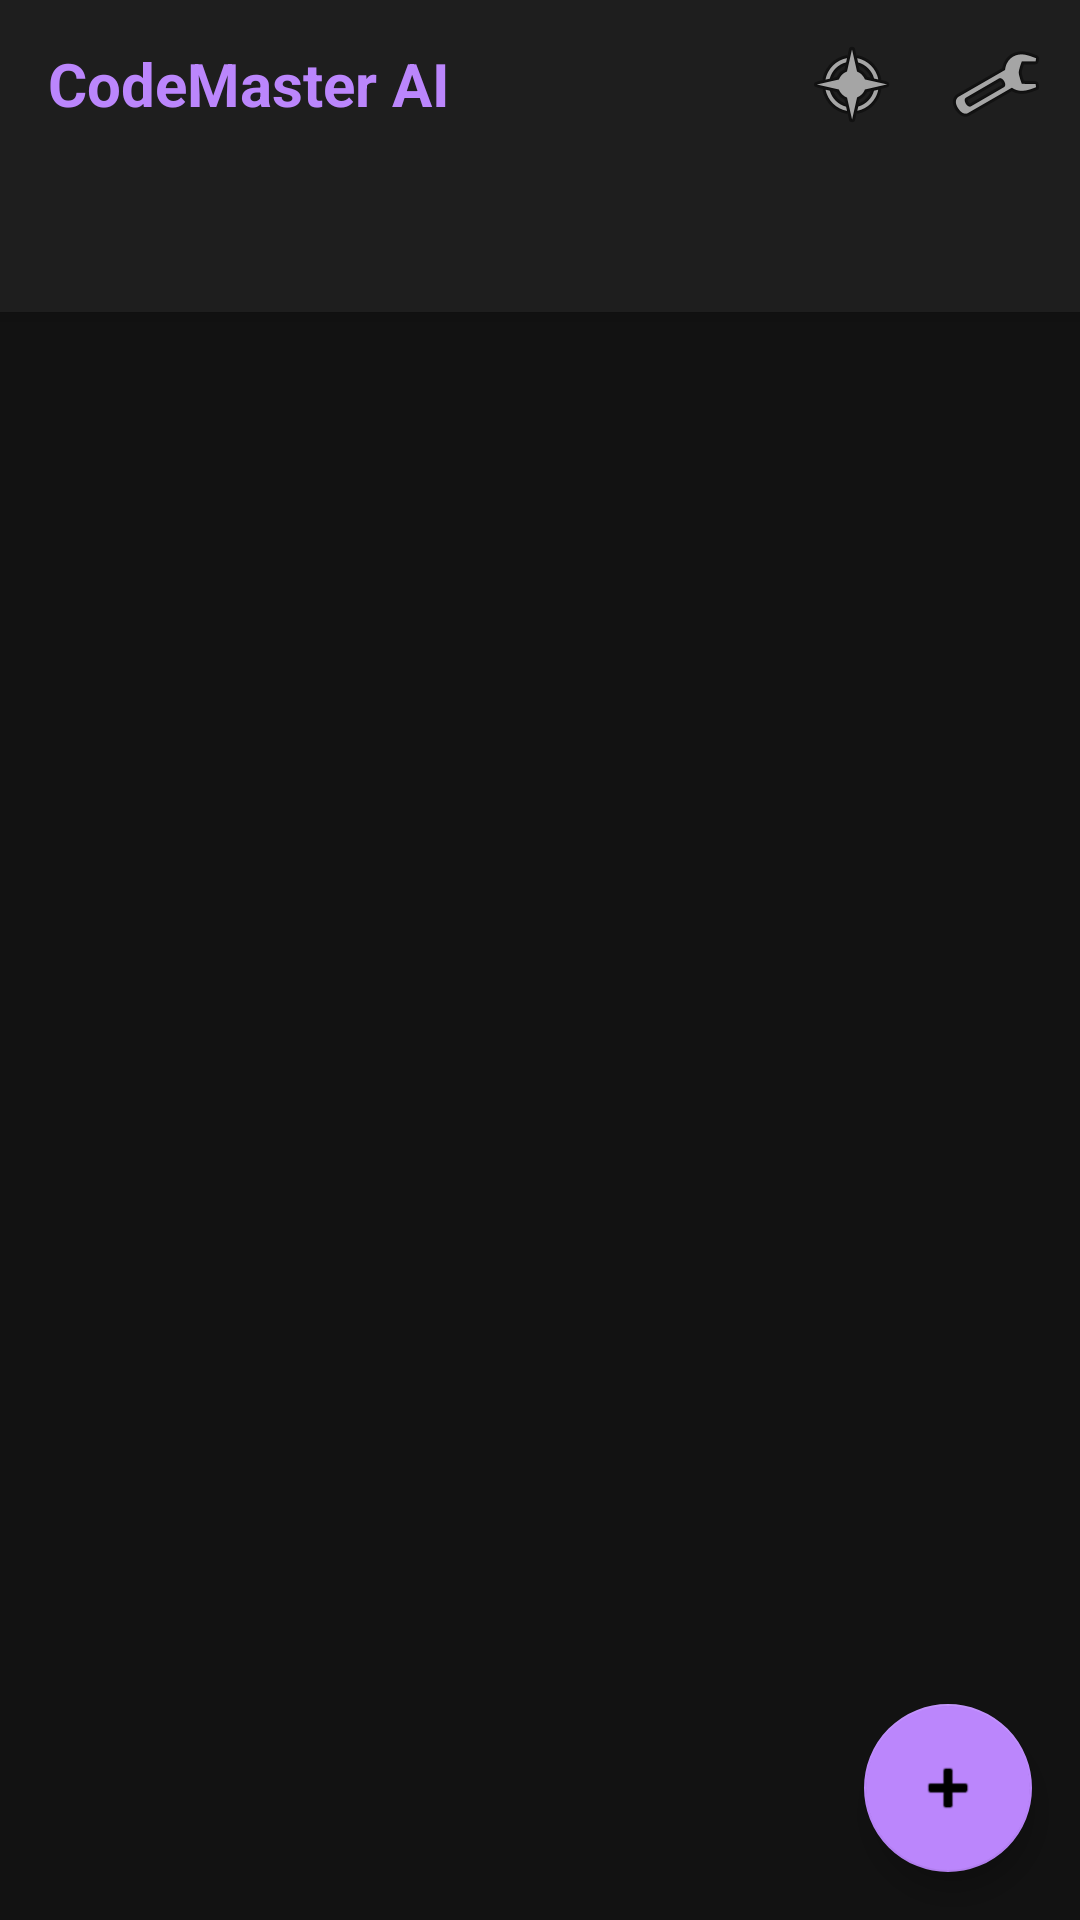

Icon click points for this 1080×1920 phone screenshot, format point (x, y):
Quick Actions: point (948, 1788)
Settings: point (996, 84)
